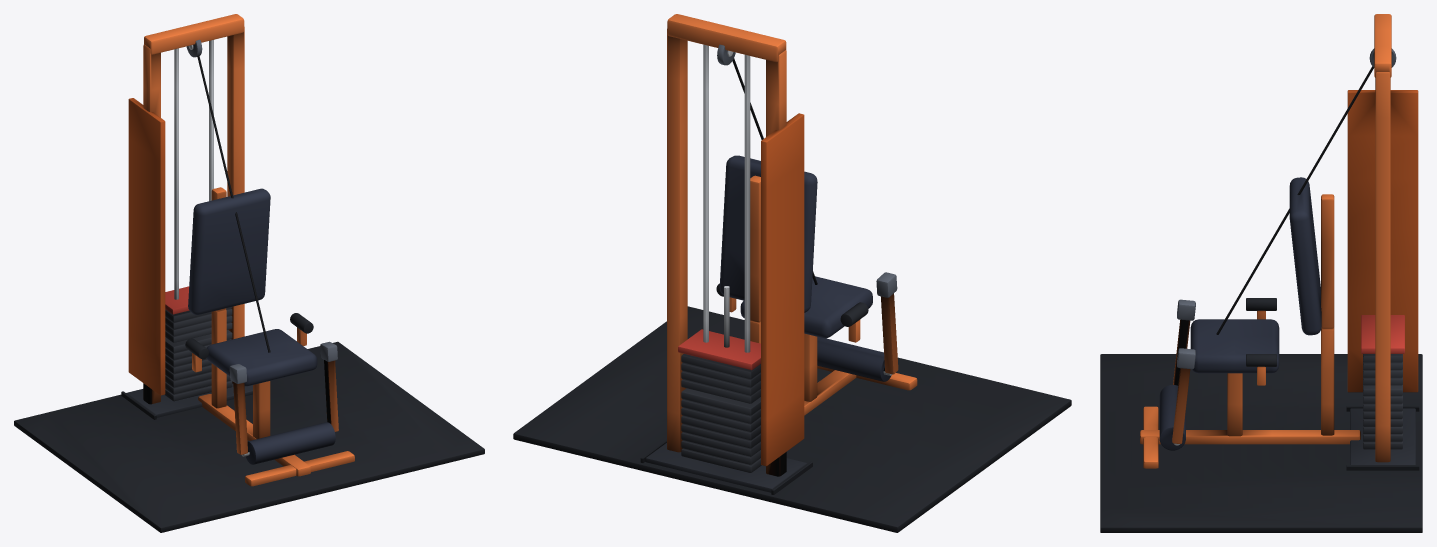
The model's file is m_legext.glb.
The picture shows the model from 3 angles, left to right: view 1: azimuth 30°, elevation 25°; view 2: azimuth 150°, elevation 25°; view 3: azimuth 270°, elevation 25°; orthographic projection. The views are drawn at different scales.
Visible parts, largest first — view 1: static, o44, o17; view 2: static, o17, o44; view 3: static, o44, o17.
Boxes of the visible parts, x1,y1,x2,y2 form: static: (14,14,484,532); o44: (229,341,338,464); o17: (165,286,232,342); static: (513,14,1071,532); o17: (678,286,760,403); o44: (817,272,898,381); static: (1100,14,1422,532); o44: (1159,299,1195,450); o17: (1361,315,1404,385).
Size of the model in its own units: 1.86 by 2.05 by 1.46.
